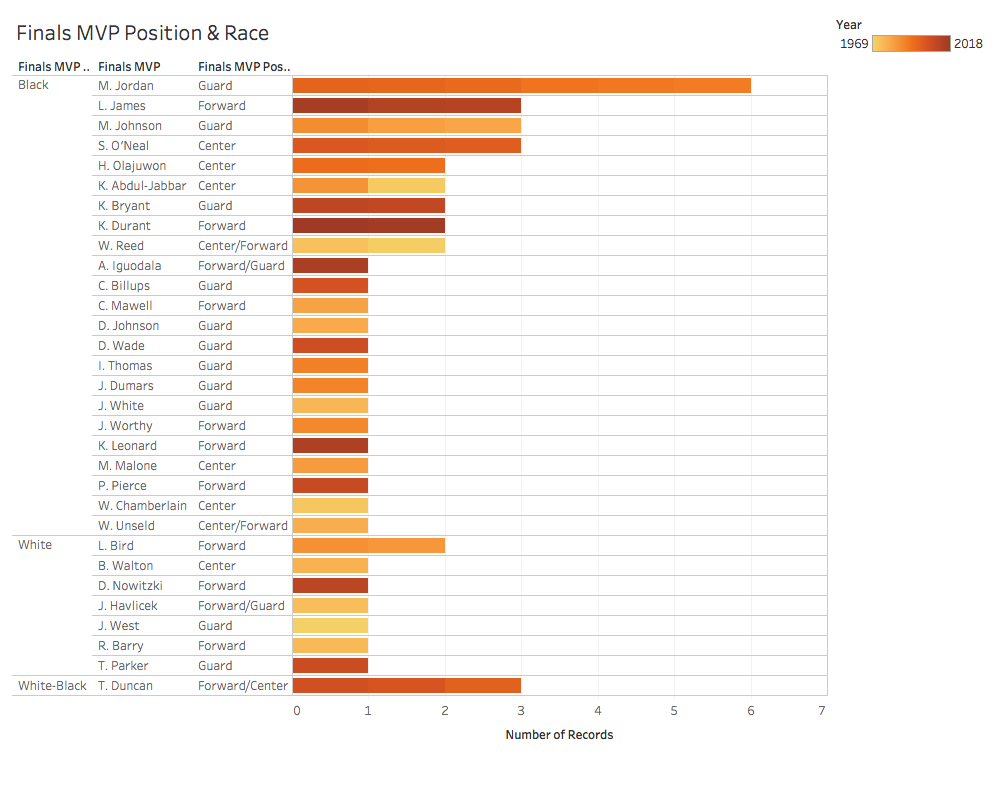

What the dashboard file says about the page in this screenshot:
{"tool":"tableau","page":{"name":"Dashboard 1","canvas":[1000,800],"ordinal":0},"visuals":[{"type":"worksheet","title":"Sheet 1","mark":"Automatic","rows":["Team"],"cols":[" Total Attendance"],"box":[8,8,824,784]},{"type":"legend","title":"Sheet 1","param":"[federated.00uhm0e1355ta71ero8c80fyin8d].[none:Starting Year:qk]","box":[832,8,160,65]}]}

Visuals, with their boxes in screenshot pixels (x1, y1, x2, y2), scaled from the page's 1000x800 canvas onto the 1000x800 screenshot:
"Sheet 1" worksheet: bbox=[8, 8, 832, 792]
"Sheet 1" legend: bbox=[832, 8, 992, 73]
